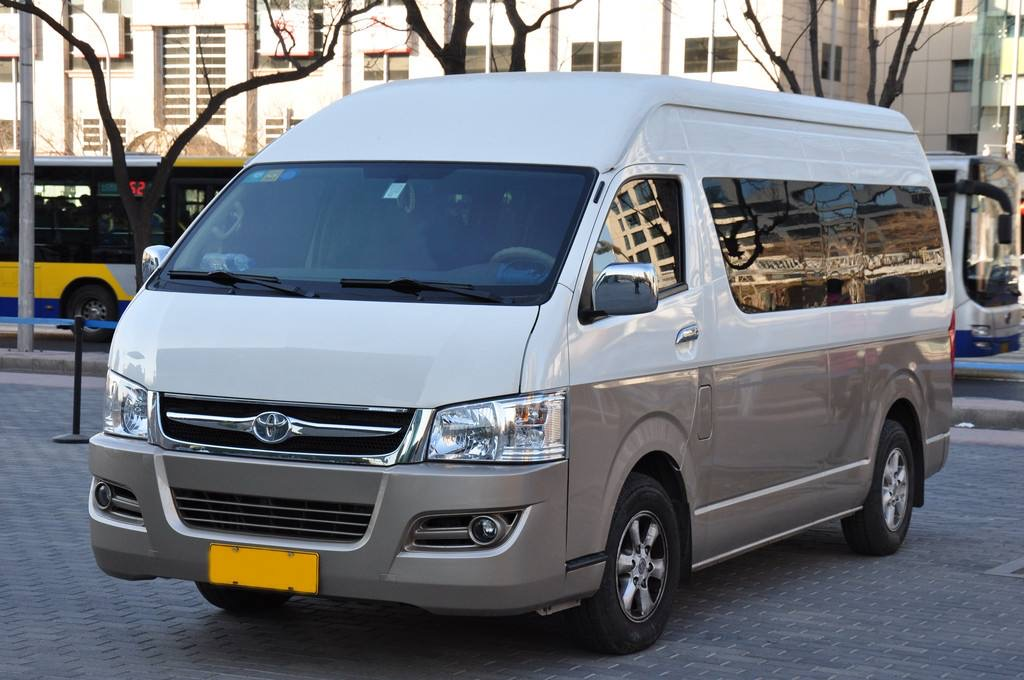midcar: (76, 8, 961, 638)
